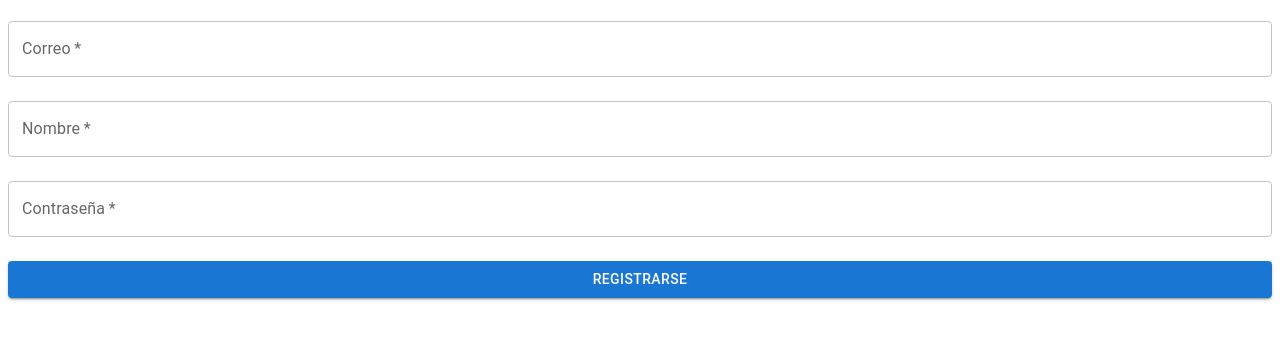
Scenario: RegisterForm › muestra mensaje de error si el registro falla
In the field labelled "Correo *": [640, 49] box left=8, top=21, right=1272, bottom=77, type "test@test.com"
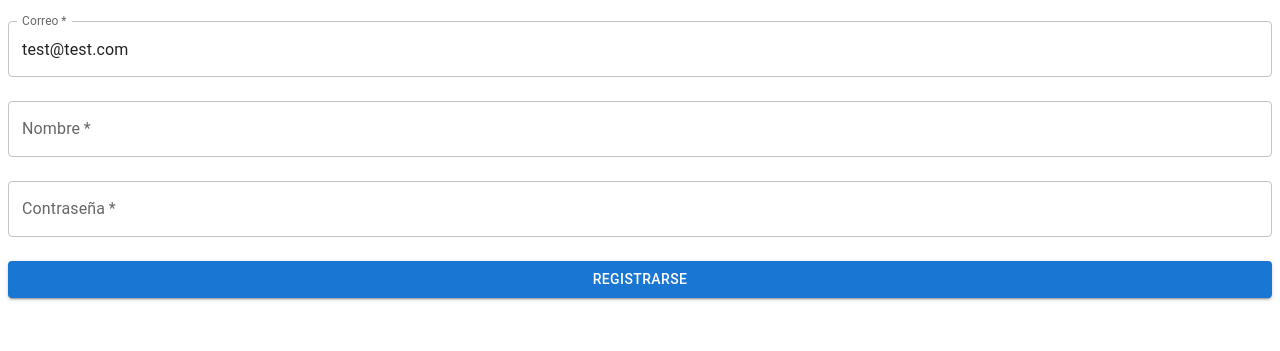
In the field labelled "Nombre *": [640, 129] box left=8, top=101, right=1272, bottom=157, type "Ignacio"
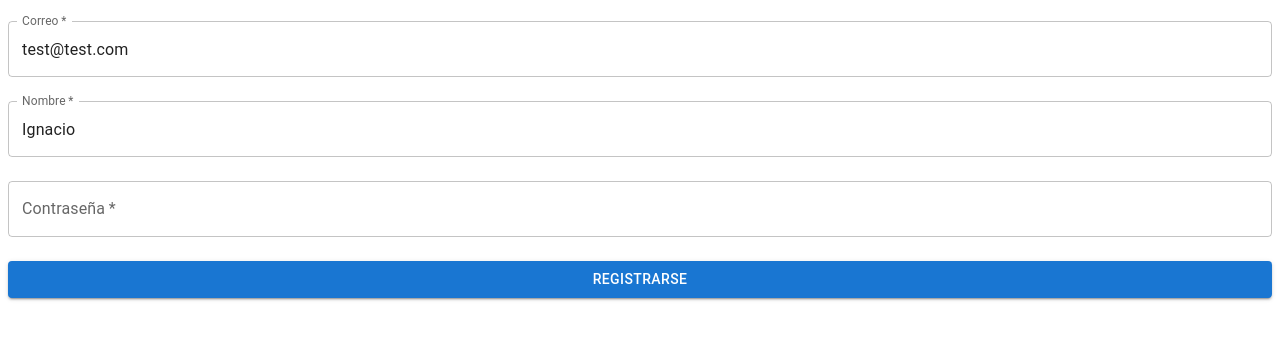
In the password field labelled "Contraseña *": [640, 209] box left=8, top=181, right=1272, bottom=237, type "123456"
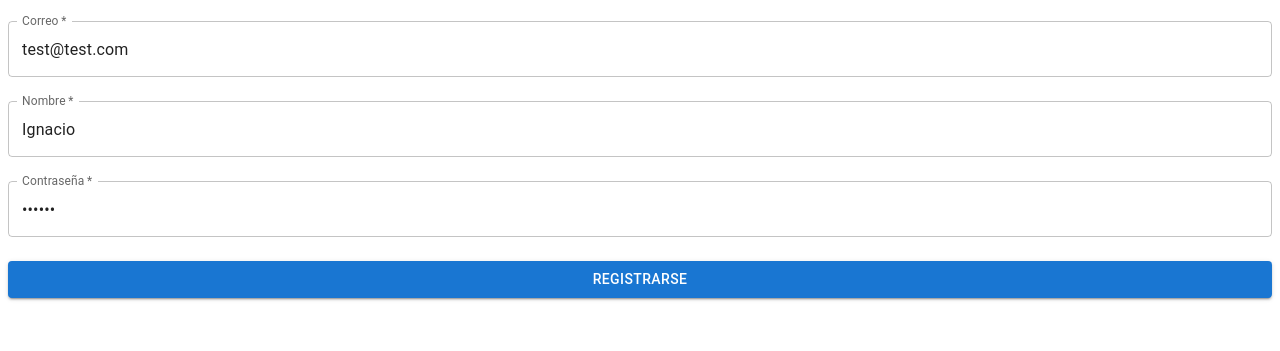
Click the button "Registrarse": [640, 279] box left=8, top=261, right=1272, bottom=298
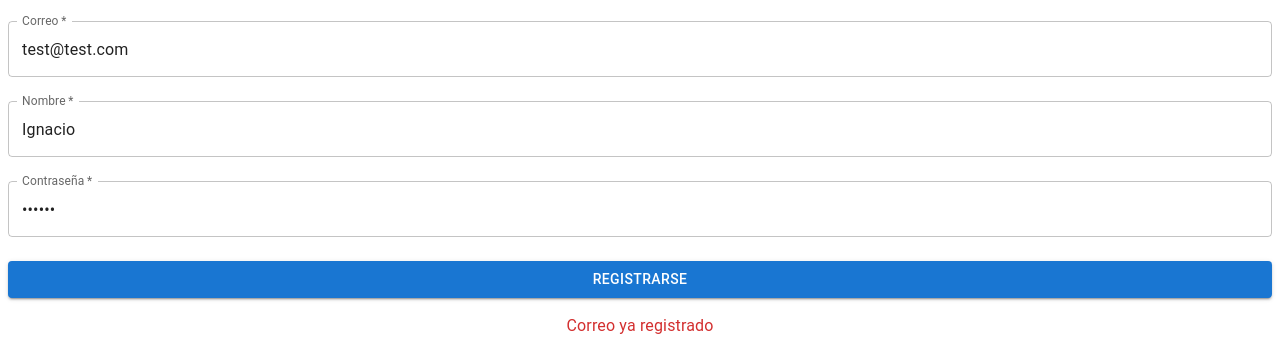
Check: the text "Correo ya registrado" is shown, box left=566, top=316, right=714, bottom=334
